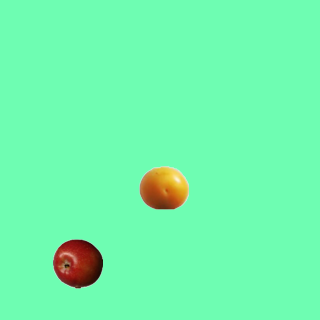Apple Braeburn: (52, 238, 102, 288)
Cherry Wax Yellow: (138, 162, 188, 212)
